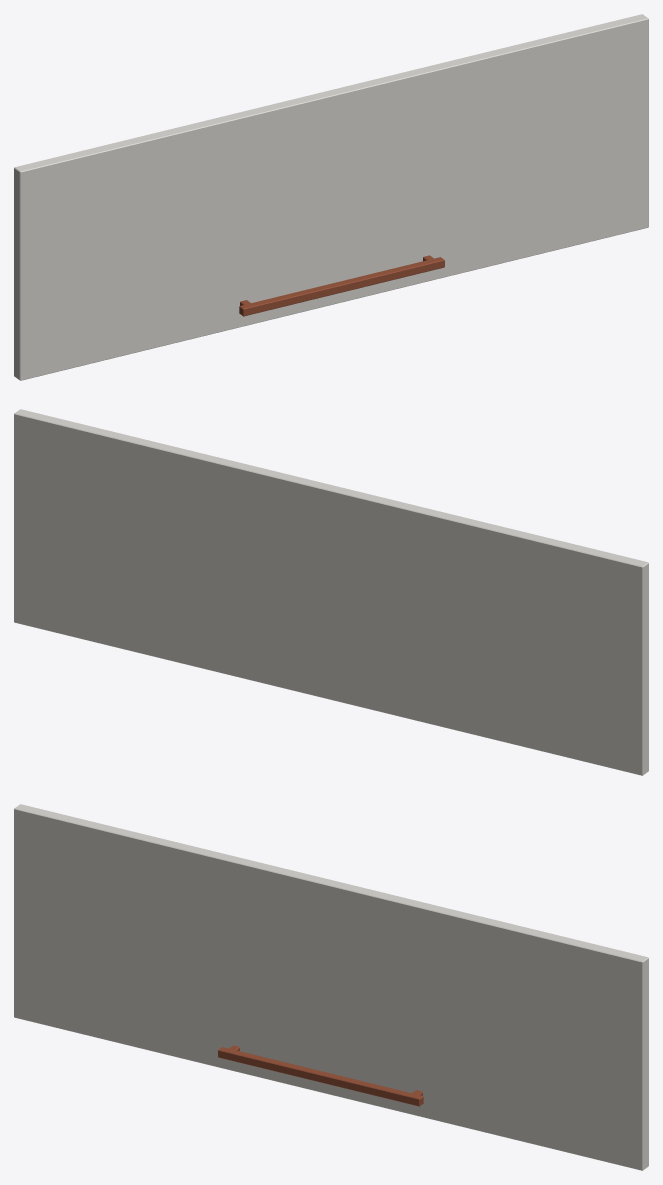
File: wall_cabinet_wide_liftup_flap_flap.glb
3 views of the same model, one above another, from view 1: azimuth 30°, elevation 25°; view 2: azimuth 150°, elevation 25°; view 3: azimuth 330°, elevation 25° (orthographic).
Parts seen in each view (by area): view 1: wall_cabinet_wide_liftup_flap_flap; view 2: wall_cabinet_wide_liftup_flap_flap; view 3: wall_cabinet_wide_liftup_flap_flap.
Boxes of the visible parts, box(x1,y1,x2,y2) form: wall_cabinet_wide_liftup_flap_flap: box(14, 14, 648, 380); wall_cabinet_wide_liftup_flap_flap: box(14, 409, 648, 775); wall_cabinet_wide_liftup_flap_flap: box(14, 804, 648, 1170).
Bounding box in the file's own units: 0.997 × 0.317 × 0.044.
